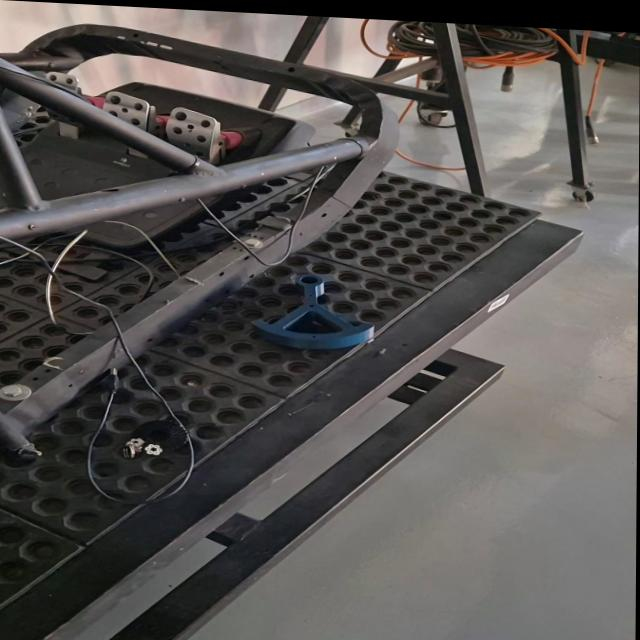haptic: (249, 271, 377, 354)
